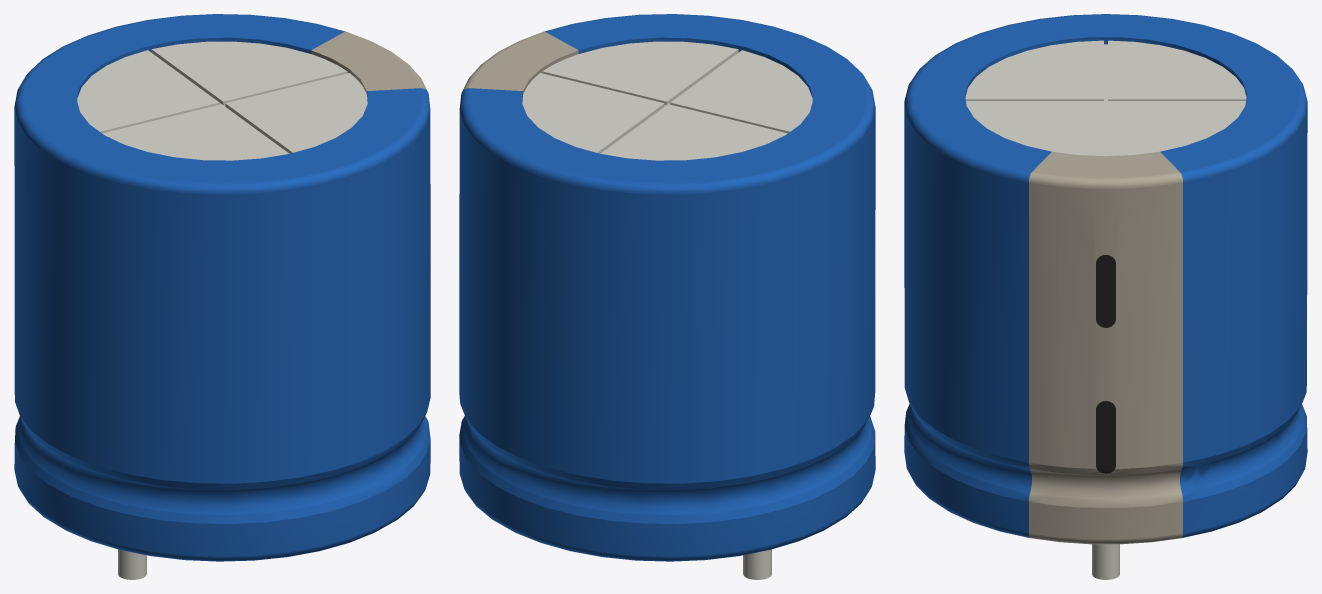
File: kc-cp_radial_d10.0mm_p5.00mm.glb
3 renders of one model, left to right at view 1: azimuth 30°, elevation 25°; view 2: azimuth 150°, elevation 25°; view 3: azimuth 270°, elevation 25°, orthographic. The views are drawn at different scales.
Parts seen in each view (by area): view 1: 0_0.16666666666666666_0.5_0, 0.6666666666666666_0.6666666666666666_0.5833333333333334_0.8, 0.4166666666666667_0.4166666666666667_0.3333333333333333_0; view 2: 0_0.16666666666666666_0.5_0, 0.6666666666666666_0.6666666666666666_0.5833333333333334_0.8, 0.4166666666666667_0.4166666666666667_0.3333333333333333_0; view 3: 0_0.16666666666666666_0.5_0, 0.4166666666666667_0.4166666666666667_0.3333333333333333_0, 0.6666666666666666_0.6666666666666666_0.5833333333333334_0.8, 0_0_0_0.
Boxes of the visible parts, left/top/right/bottom form: 0_0.16666666666666666_0.5_0: left=14, top=14, right=430, bottom=561; 0.6666666666666666_0.6666666666666666_0.5833333333333334_0.8: left=77, top=41, right=367, bottom=579; 0.4166666666666667_0.4166666666666667_0.3333333333333333_0: left=311, top=31, right=426, bottom=418; 0_0.16666666666666666_0.5_0: left=459, top=14, right=875, bottom=561; 0.6666666666666666_0.6666666666666666_0.5833333333333334_0.8: left=522, top=41, right=812, bottom=579; 0.4166666666666667_0.4166666666666667_0.3333333333333333_0: left=463, top=31, right=578, bottom=417; 0_0.16666666666666666_0.5_0: left=904, top=14, right=1307, bottom=537; 0.4166666666666667_0.4166666666666667_0.3333333333333333_0: left=1029, top=151, right=1182, bottom=544; 0.6666666666666666_0.6666666666666666_0.5833333333333334_0.8: left=965, top=40, right=1246, bottom=579; 0_0_0_0: left=1096, top=255, right=1115, bottom=473.
Size of the model in its own units: 1 by 1.2 by 0.9998.
